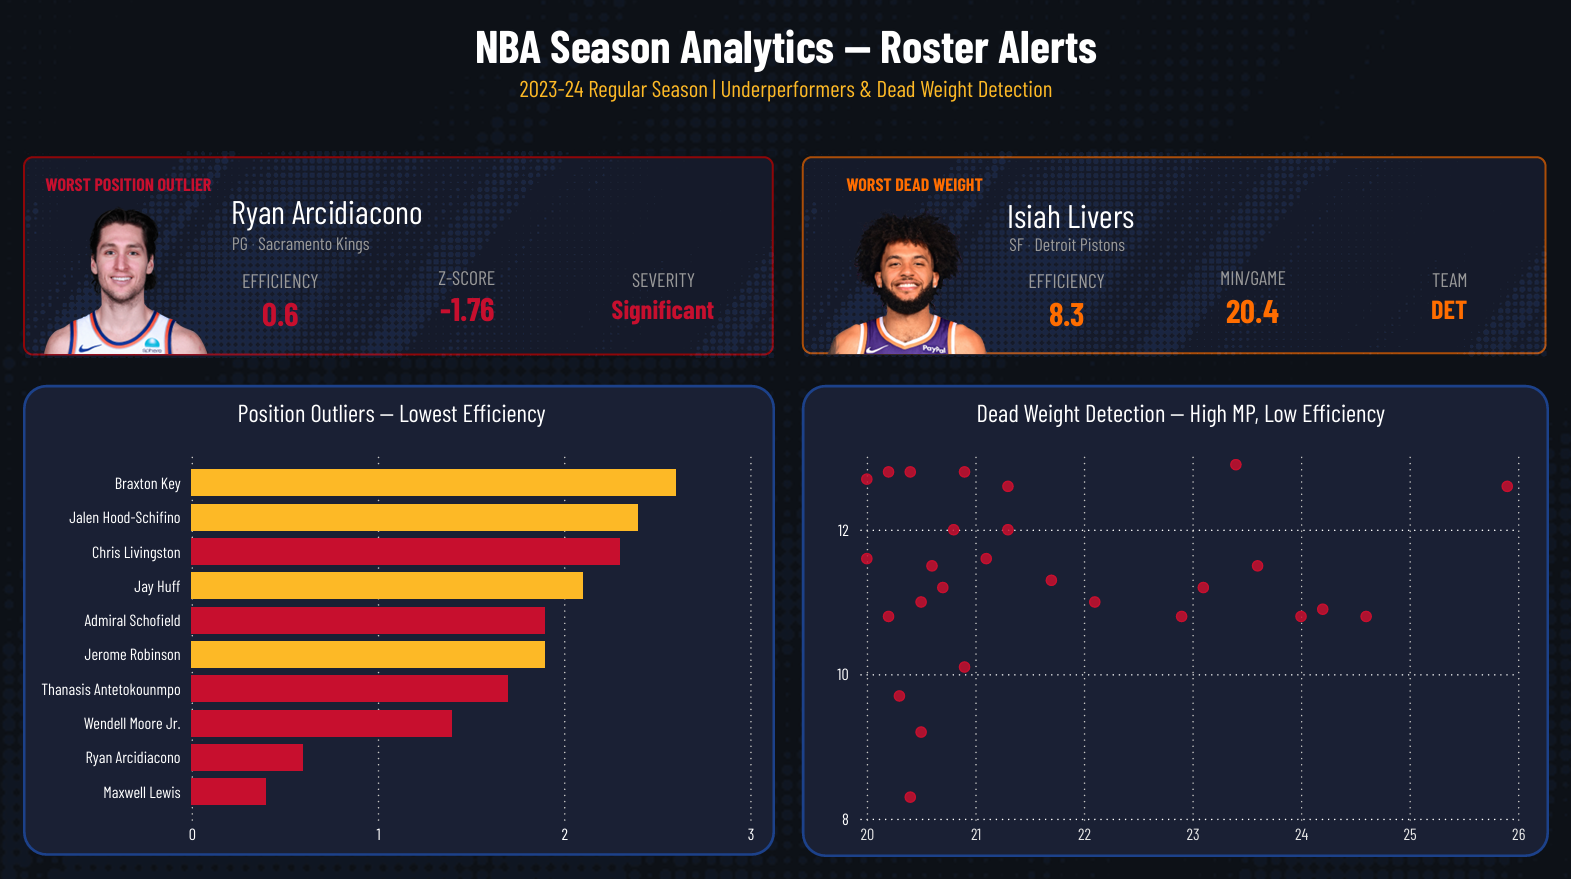

The page's visual inventory and layout, read from the dashboard file:
{"tool":"powerbi","page":{"name":"Roster Alerts","canvas":[1280,720],"ordinal":2},"visuals":[{"type":"image","box":[0,0,1280,720],"z":0},{"type":"shape","title":"Frame","box":[20,129.8,609.8,162.1],"z":0,"group":"g9"},{"type":"shape","title":"Frame","box":[653.2,130,604.5,161.2],"z":0,"group":"g11"},{"type":"image","title":"ORL","box":[18,149,164.5,162.2],"z":0,"group":"g10"},{"type":"image","title":"ORL","box":[657,149,164.5,162.2],"z":0,"group":"g12"},{"type":"textbox","title":"totalptsavg","box":[329.5,214,103.2,28.6],"z":0,"group":"g5"},{"type":"textbox","title":"totalptsavg","box":[968.5,214,103.2,28.6],"z":0,"group":"g6"},{"type":"group","id":"g1","title":"Group 6","box":[485.9,214.8,108.4,66.3],"z":0,"group":"g7"},{"type":"textbox","title":"totalptsavg","box":[487.6,214.8,105.1,30.7],"z":0,"group":"g1"},{"type":"group","id":"g2","title":"Group 6","box":[1124.9,214.9,108.4,66.3],"z":0,"group":"g8"},{"type":"textbox","title":"totalptsavg","box":[1126.6,214.9,105.1,30.7],"z":0,"group":"g2"},{"type":"textbox","title":"totalptsavg","box":[182,215.6,94.2,37.4],"z":0,"group":"g3"},{"type":"textbox","title":"totalptsavg","box":[821,215.8,94.2,37.4],"z":0,"group":"g4"},{"type":"textbox","title":"Sub-title","box":[407.2,58.5,465.6,43.1],"z":1000},{"type":"image","box":[20,125.6,611.2,167.6],"z":1000,"group":"g9"},{"type":"image","box":[653.2,125.8,605.9,166.7],"z":1000,"group":"g11"},{"type":"textbox","title":"Orlando Magic","box":[162.2,185.8,165.1,32.6],"z":1000,"group":"g10"},{"type":"textbox","title":"Orlando Magic","box":[785.5,186.8,165.1,32.6],"z":1000,"group":"g12"},{"type":"group","id":"g3","title":"Group 3","box":[182,215.6,94.2,65.3],"z":1000,"group":"g7"},{"type":"group","id":"g4","title":"Group 3","box":[821,215.8,94.2,65.3],"z":1000,"group":"g8"},{"type":"textbox","title":"Worst Pos outlier","box":[339.1,231.7,83.9,48.7],"z":1000,"group":"g5"},{"type":"textbox","title":"Worst Pos outlier","box":[977.8,234.5,83.8,48.1],"z":1000,"group":"g6"},{"type":"textbox","title":"Worst Pos outlier","box":[203.4,235.1,51.4,45.7],"z":1000,"group":"g3"},{"type":"textbox","title":"Worst Pos outlier","box":[842.4,235.3,51.4,45.7],"z":1000,"group":"g4"},{"type":"textbox","title":"Worst Pos outlier","box":[485.9,235.8,108.4,45.3],"z":1000,"group":"g1"},{"type":"textbox","title":"Worst Pos outlier","box":[1124.9,235.9,108.4,45.3],"z":1000,"group":"g2"},{"type":"textbox","title":"Title","box":[341.1,12,597.8,77.6],"z":2000},{"type":"textbox","title":"131","box":[161.1,153.1,210.2,42.2],"z":2000,"group":"g10"},{"type":"textbox","title":"131","box":[775.1,155.8,191.8,49.1],"z":2000,"group":"g12"},{"type":"group","id":"g5","title":"Group 5","box":[329.5,214,103.2,66.3],"z":2000,"group":"g7"},{"type":"group","id":"g6","title":"Group 5","box":[968.5,214,103.2,68.6],"z":2000,"group":"g8"},{"type":"textbox","title":"Worst Pos outlier","box":[14.6,137.7,183.8,33.1],"z":3000,"group":"g10"},{"type":"textbox","title":"Worst Pos outlier","box":[653.6,137.7,183.8,33.1],"z":3000,"group":"g12"},{"type":"shape","title":"Frame","box":[653.3,315.6,606.7,384.4],"z":3000},{"type":"group","id":"g7","title":"Group 1","box":[182,214,412.3,67.1],"z":4000,"group":"g10"},{"type":"group","id":"g8","title":"Group 1","box":[821,214,412.3,68.6],"z":4000,"group":"g12"},{"type":"scatterChart","title":"Dead Weight Detection — High MP, Low Efficiency","fields":{"Category":["vw_dead_weight.Player"],"X":["Avg(vw_dead_weight.MP)"],"Y":["Avg(vw_dead_weight.efficiency)"]},"box":[675.6,315.6,570,383.3],"z":4000},{"type":"shape","title":"Frame","box":[20,315.6,611.1,383.3],"z":5000},{"type":"group","id":"g9","title":"Group 2","box":[20,125.6,611.1,167.8],"z":6000},{"type":"group","id":"g10","title":"Group 4","box":[14.6,137.7,579.7,173.6],"z":7000},{"type":"group","id":"g11","title":"Group 2","box":[653.2,125.8,605.8,166.8],"z":8000},{"type":"group","id":"g12","title":"Group 4","box":[653.6,137.7,579.7,173.6],"z":9000},{"type":"clusteredBarChart","title":"Position Outliers — Lowest Efficiency","fields":{"Category":["vw_position_outliers.Player"],"Y":["Sum(vw_position_outliers.player_efficiency)"]},"box":[20,315.6,598.9,383.3],"z":10000}]}

Visuals, with their boxes in screenshot pixels (x1, y1, x2, y2), scaled from the page's 1280x720 canvas onto the 1571x879 screenshot:
image: left=0, top=0, right=1570, bottom=878
"Frame" shape: left=25, top=158, right=773, bottom=356
"Frame" shape: left=802, top=159, right=1544, bottom=356
"ORL" image: left=22, top=182, right=224, bottom=380
"ORL" image: left=806, top=182, right=1008, bottom=380
"totalptsavg" textbox: left=404, top=261, right=531, bottom=296
"totalptsavg" textbox: left=1189, top=261, right=1315, bottom=296
"Group 6" group: left=596, top=262, right=729, bottom=343
"totalptsavg" textbox: left=598, top=262, right=727, bottom=300
"Group 6" group: left=1381, top=262, right=1514, bottom=343
"totalptsavg" textbox: left=1383, top=262, right=1512, bottom=300
"totalptsavg" textbox: left=223, top=263, right=339, bottom=309
"totalptsavg" textbox: left=1008, top=263, right=1123, bottom=309
"Sub-title" textbox: left=500, top=71, right=1071, bottom=124
image: left=25, top=153, right=775, bottom=358
image: left=802, top=154, right=1545, bottom=357
"Orlando Magic" textbox: left=199, top=227, right=402, bottom=267
"Orlando Magic" textbox: left=964, top=228, right=1167, bottom=268
"Group 3" group: left=223, top=263, right=339, bottom=343
"Group 3" group: left=1008, top=263, right=1123, bottom=343
"Worst Pos outlier" textbox: left=416, top=283, right=519, bottom=342
"Worst Pos outlier" textbox: left=1200, top=286, right=1303, bottom=345
"Worst Pos outlier" textbox: left=250, top=287, right=313, bottom=343
"Worst Pos outlier" textbox: left=1034, top=287, right=1097, bottom=343
"Worst Pos outlier" textbox: left=596, top=288, right=729, bottom=343
"Worst Pos outlier" textbox: left=1381, top=288, right=1514, bottom=343
"Title" textbox: left=419, top=15, right=1152, bottom=109
"131" textbox: left=198, top=187, right=456, bottom=238
"131" textbox: left=951, top=190, right=1187, bottom=250
"Group 5" group: left=404, top=261, right=531, bottom=342
"Group 5" group: left=1189, top=261, right=1315, bottom=345
"Worst Pos outlier" textbox: left=18, top=168, right=244, bottom=209
"Worst Pos outlier" textbox: left=802, top=168, right=1028, bottom=209
"Frame" shape: left=802, top=385, right=1546, bottom=855
"Group 1" group: left=223, top=261, right=729, bottom=343
"Group 1" group: left=1008, top=261, right=1514, bottom=345
"Dead Weight Detection — High MP, Low Efficiency" scatterChart: left=829, top=385, right=1529, bottom=853
"Frame" shape: left=25, top=385, right=775, bottom=853
"Group 2" group: left=25, top=153, right=775, bottom=358
"Group 4" group: left=18, top=168, right=729, bottom=380
"Group 2" group: left=802, top=154, right=1545, bottom=357
"Group 4" group: left=802, top=168, right=1514, bottom=380
"Position Outliers — Lowest Efficiency" clusteredBarChart: left=25, top=385, right=760, bottom=853
